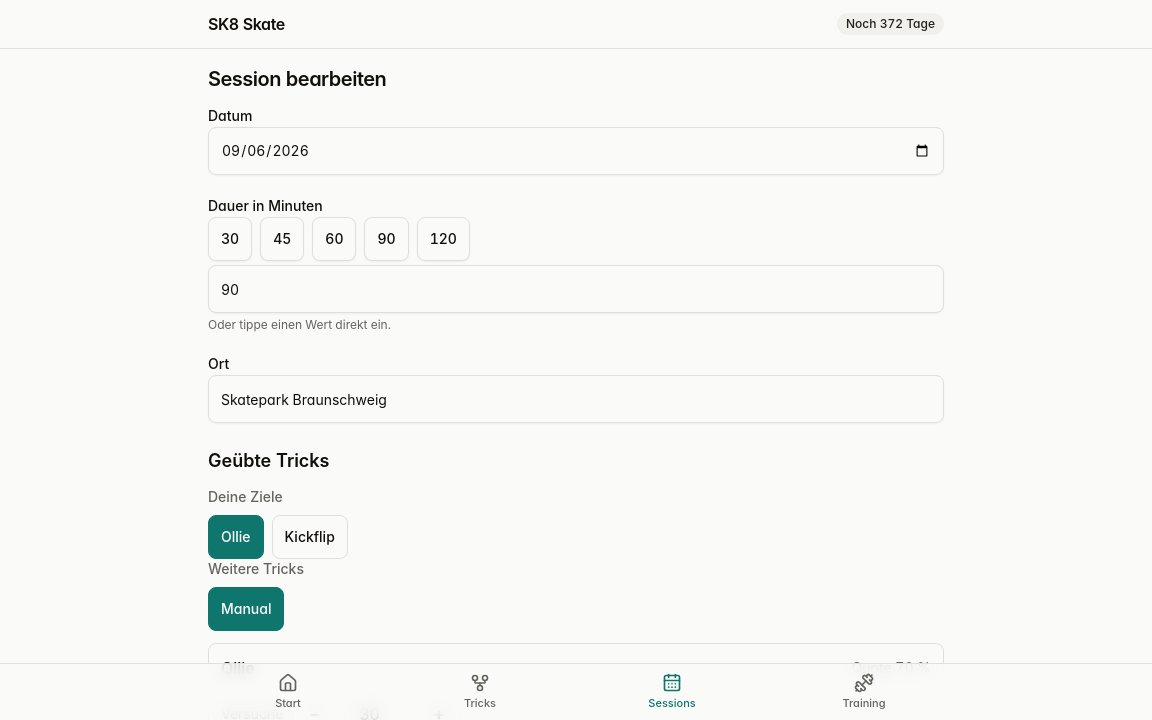
Test case: SessionEditScreen › Kriterium 15: a successful save navigates back to the detail view with the changed values
In the field labelled "Ort": (576, 399) x1=208 y1=375 x2=944 y2=423, type "Skatehalle Hannover"
(page scrolled)
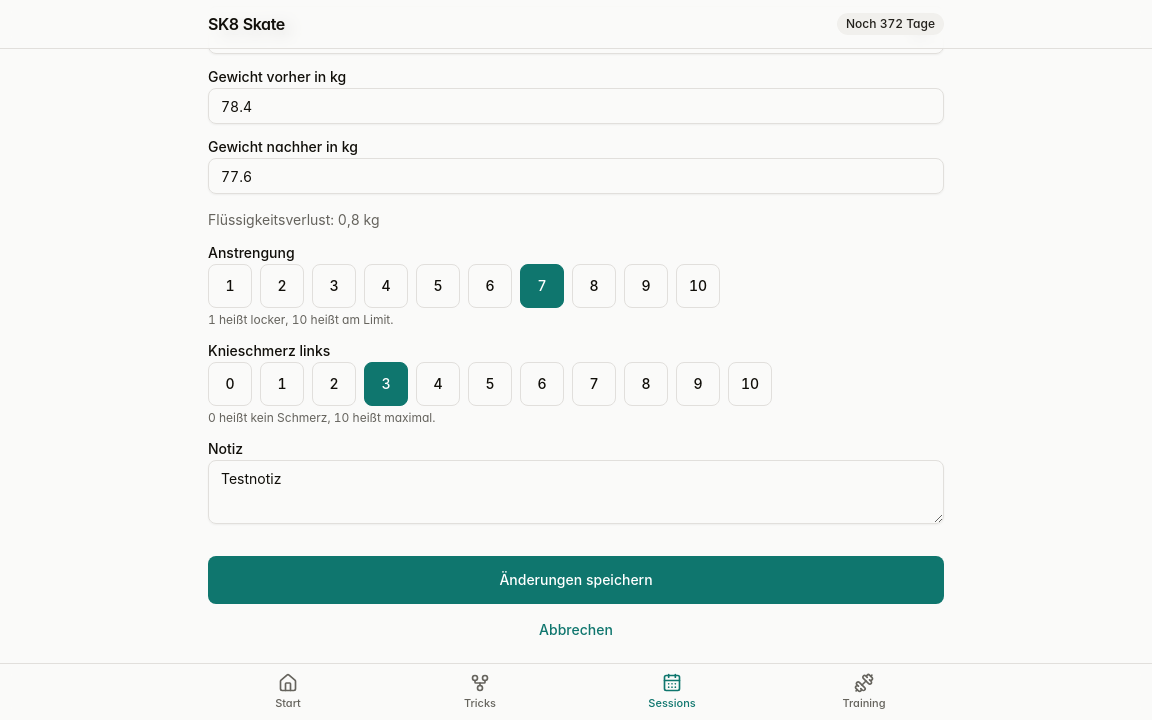
Click the button "Änderungen speichern": (576, 580) x1=208 y1=556 x2=944 y2=604
(page scrolled)
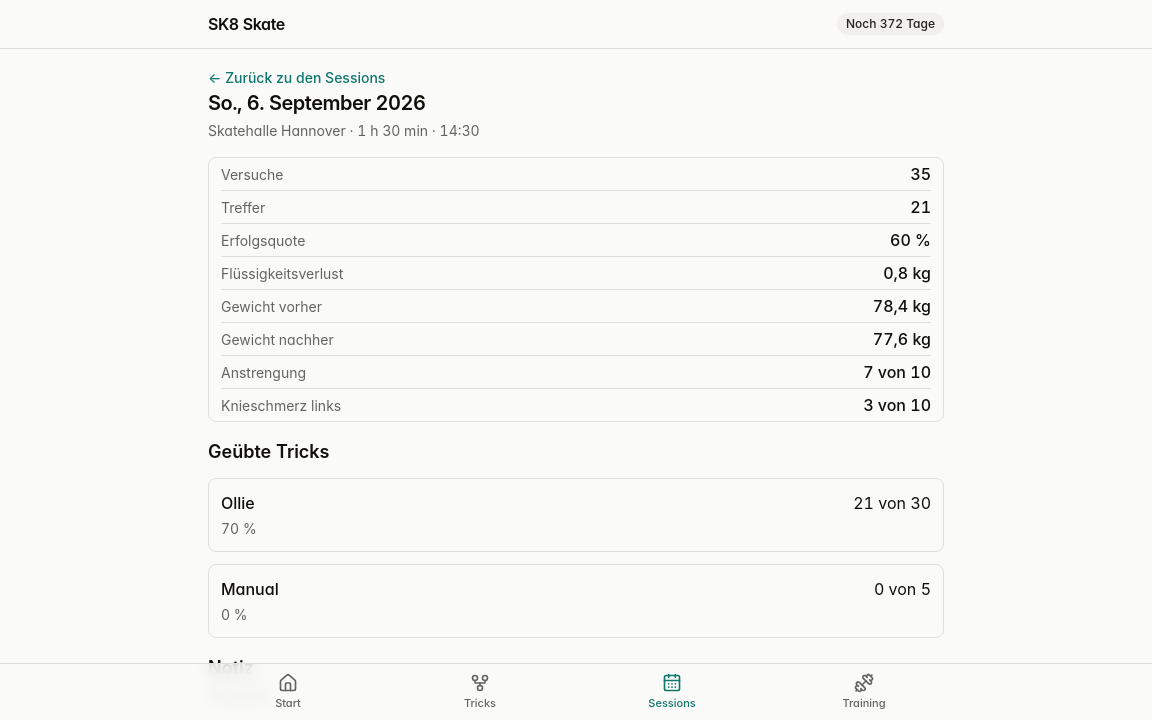
expect the text "Skatehalle Hannover" is shown: met, box x1=208 y1=122 x2=346 y2=139
